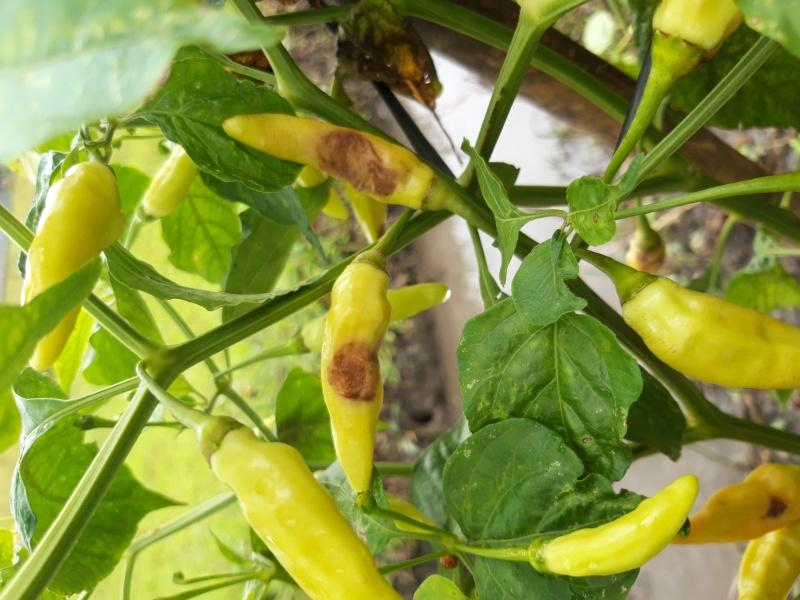antraknosa: (221, 113, 428, 210), (321, 256, 391, 501), (658, 457, 800, 546)
cabai_normal: (203, 418, 404, 600), (19, 161, 126, 378), (620, 276, 799, 389), (527, 474, 705, 578)
